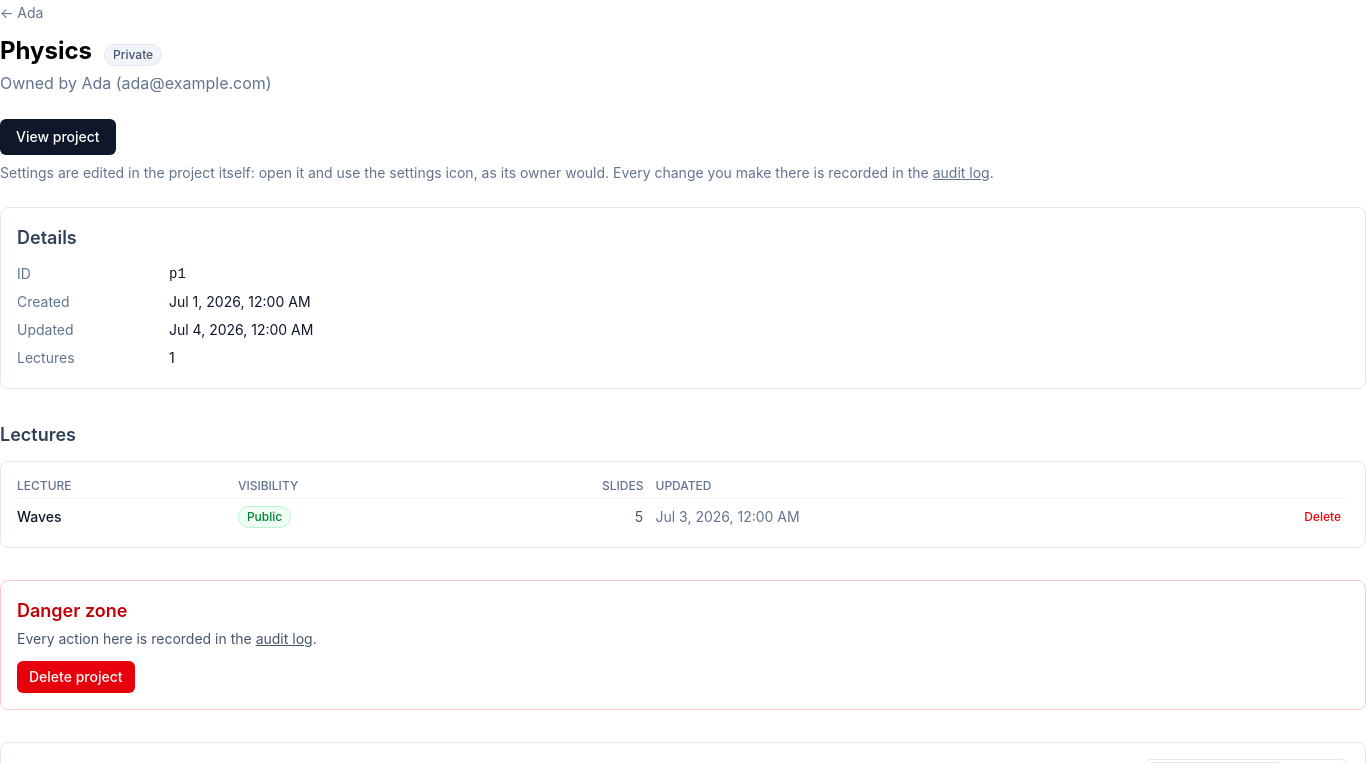
Test case: AdminProjectPage › does not log or navigate when the private-view confirm is cancelled
This screenshot has width=1366, height=763.
Expected: the heading "Physics" is shown, [0, 35, 92, 67]
Click the button "View project": [58, 137] box [0, 119, 116, 155]
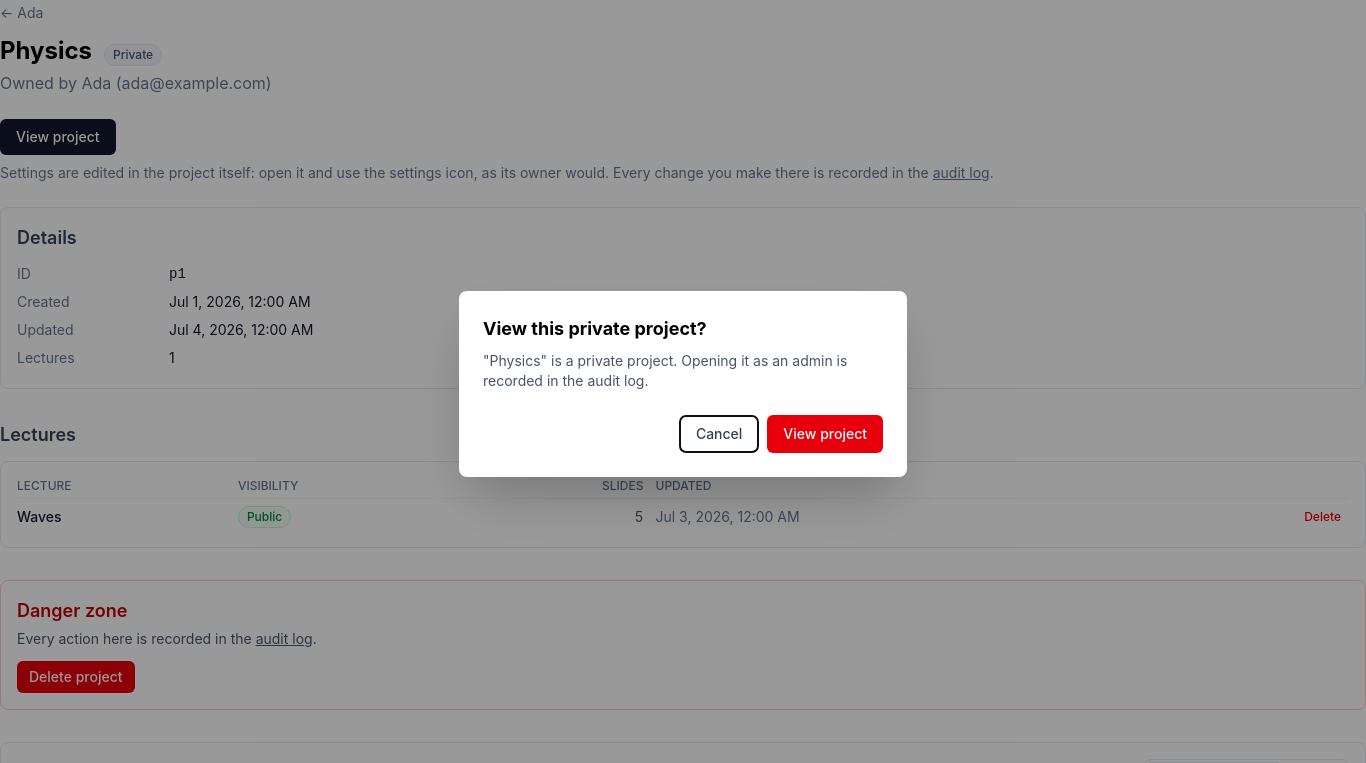
Click the button "Cancel": [719, 434] box [679, 415, 759, 453]
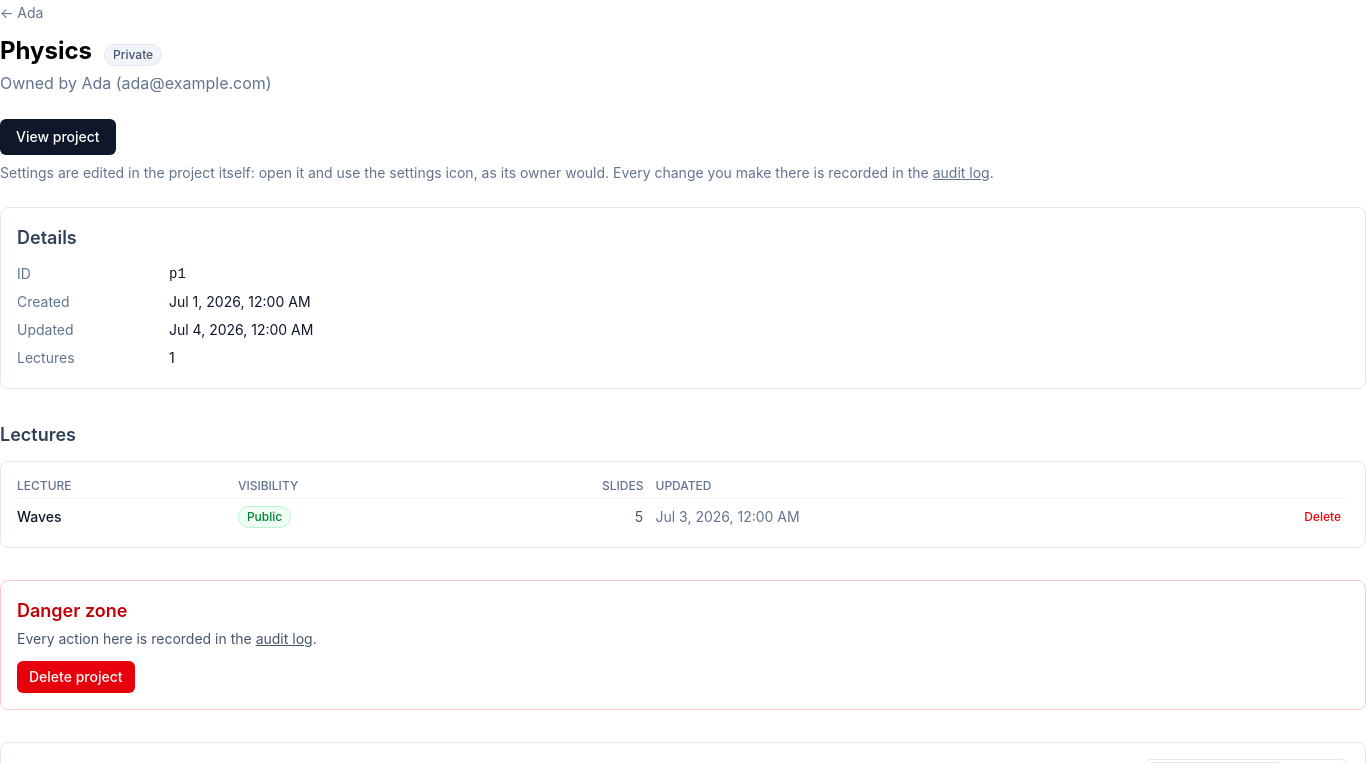
Expected: the dialog is gone
